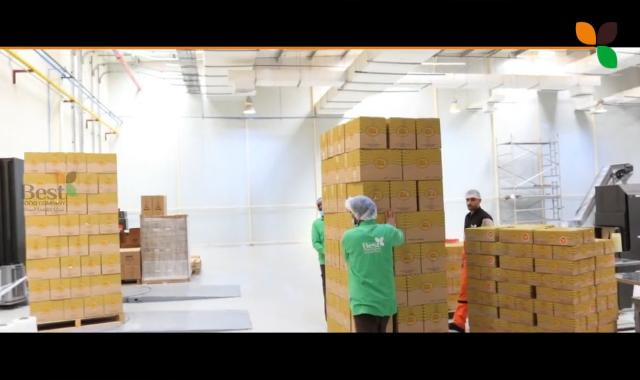hairnet: (344, 195, 376, 222), (465, 189, 483, 202)
